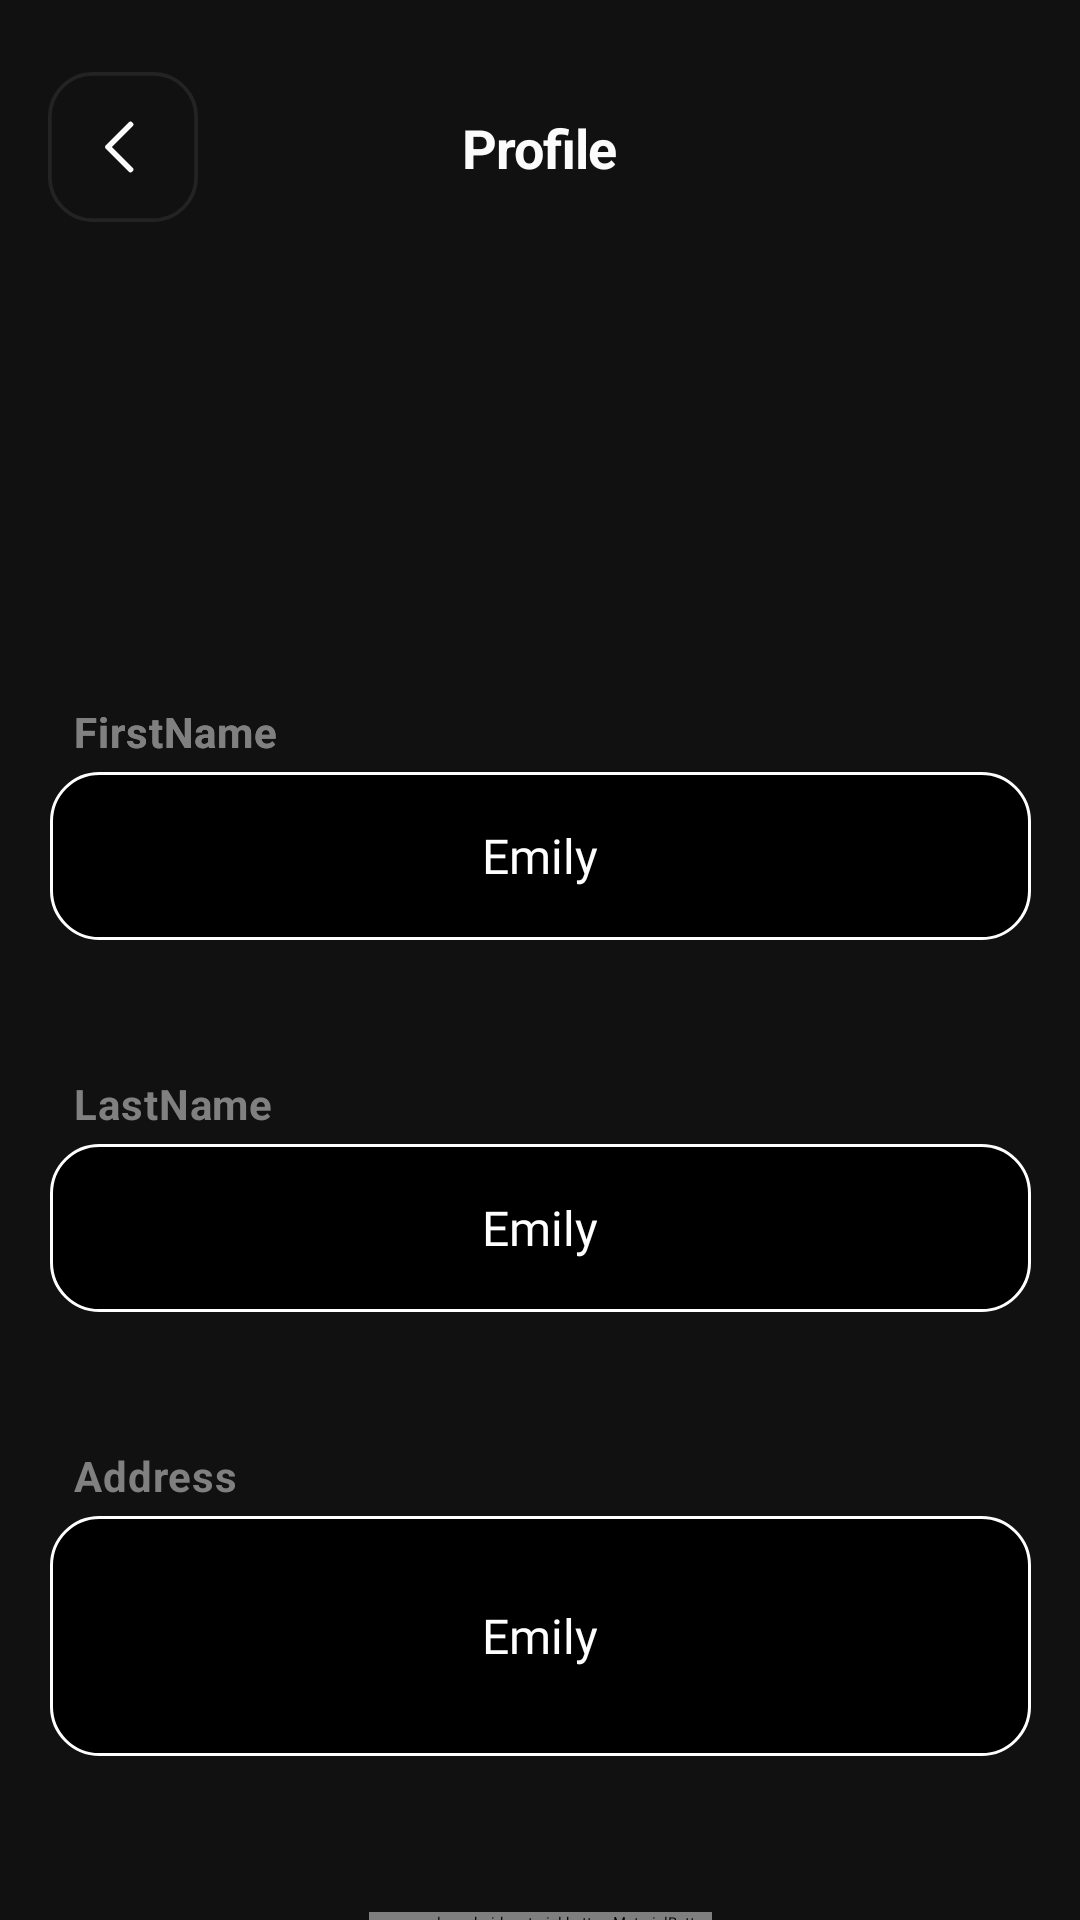

Named icons in this screenshot (1080×1920) and their bounding boxes, (x1, y1, x2, y2):
back: (105, 121, 134, 173)
